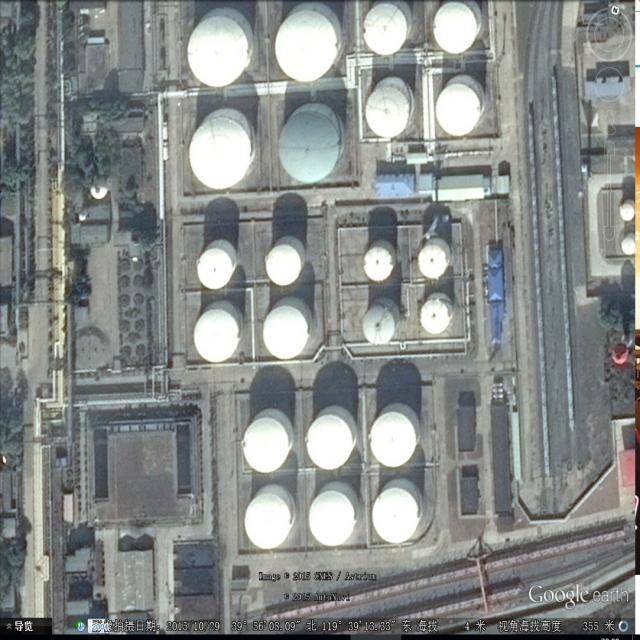oiltank: (186, 104, 259, 195), (275, 101, 350, 189), (270, 4, 348, 85), (186, 6, 257, 90), (302, 480, 362, 553), (431, 72, 492, 142), (369, 477, 428, 549), (241, 482, 299, 555), (369, 399, 427, 472), (304, 403, 360, 475), (259, 294, 317, 363), (242, 405, 298, 476), (364, 73, 418, 143), (192, 299, 247, 364), (360, 2, 414, 61), (428, 1, 483, 57), (195, 236, 243, 291), (263, 235, 311, 290), (362, 294, 407, 349), (415, 236, 458, 283), (416, 289, 458, 337), (361, 235, 400, 283)
